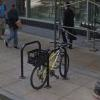Bicycle: (20, 32, 84, 92)
